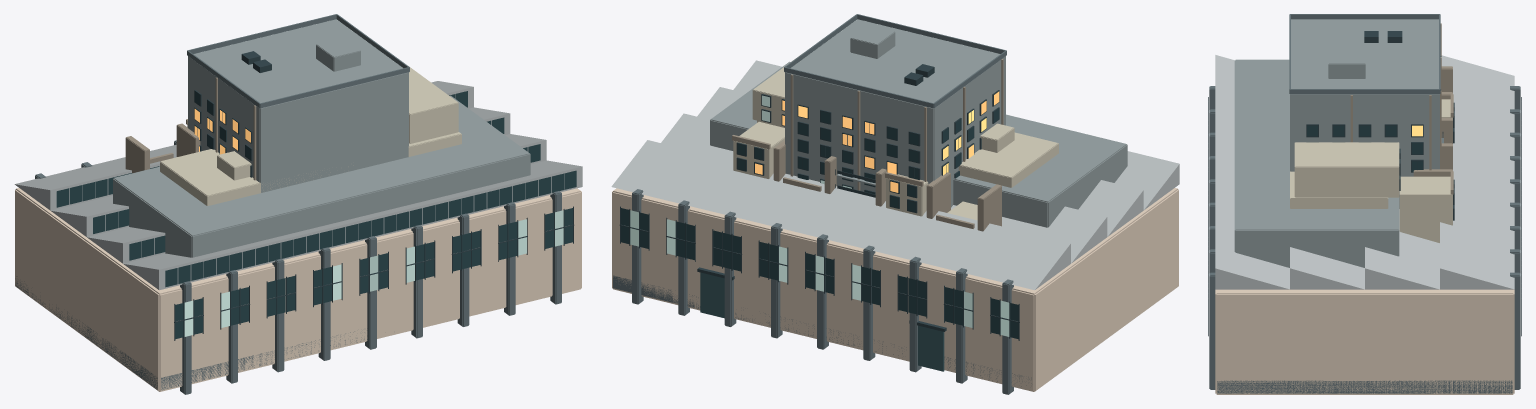
Rendered from nightweir-editor-kit.glb.
The picture shows the model from 3 angles, left to right: view 1: azimuth 30°, elevation 25°; view 2: azimuth 150°, elevation 25°; view 3: azimuth 270°, elevation 25°; orthographic projection. The views are drawn at different scales.
Visible parts, largest first — view 1: generating-house, municipal-wing, residential-court; view 2: generating-house, municipal-wing, residential-court; view 3: generating-house, municipal-wing, residential-court.
Part boxes in pixels (left/top/right/bottom): generating-house: left=14, top=81, right=582, bottom=394; municipal-wing: left=187, top=14, right=409, bottom=192; residential-court: left=125, top=66, right=461, bottom=205; generating-house: left=611, top=60, right=1179, bottom=394; municipal-wing: left=784, top=14, right=1006, bottom=207; residential-court: left=732, top=54, right=1058, bottom=231; generating-house: left=1208, top=55, right=1521, bottom=394; municipal-wing: left=1289, top=14, right=1441, bottom=208; residential-court: left=1290, top=66, right=1454, bottom=242.
Size of the model in its own units: 108 by 59.85 by 66.98.
